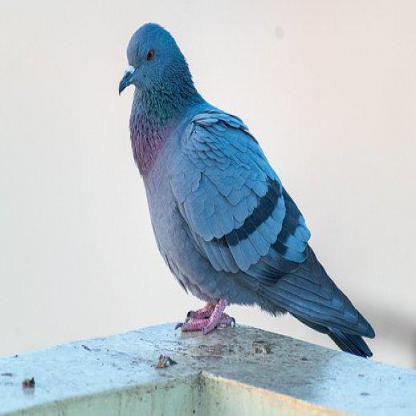Flying Rat: (115, 20, 384, 364)
